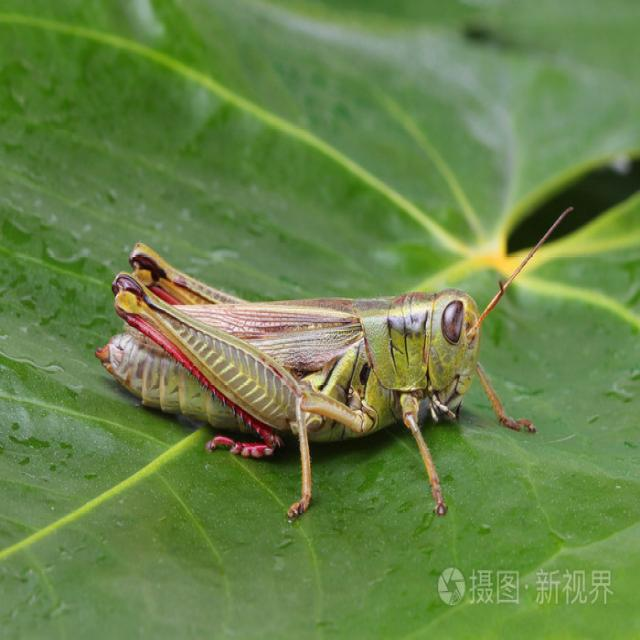ZhaMeng: (80, 215, 540, 471)
